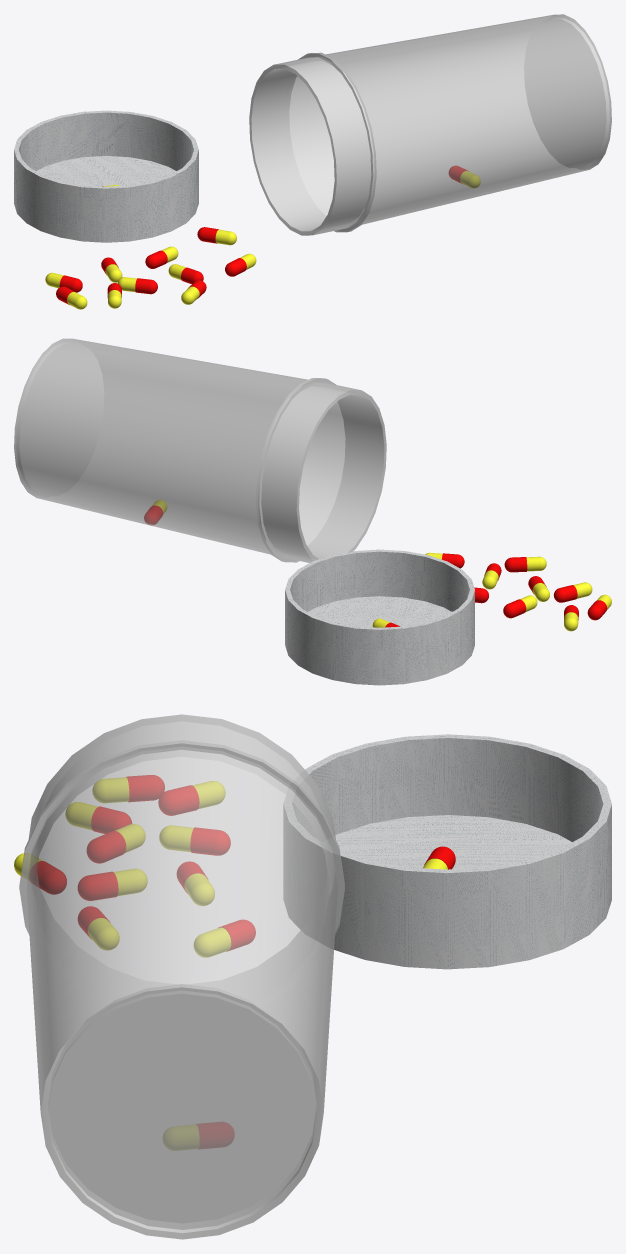
Rendered from remedio_derramado.dae.
3 views of the same model, one above another, from view 1: azimuth 30°, elevation 25°; view 2: azimuth 150°, elevation 25°; view 3: azimuth 270°, elevation 25° (orthographic). The views are drawn at different scales.
Visible parts, largest first — view 1: 组件_1 (×5), 组件_2 (×2); view 2: 组件_1 (×5), 组件_2 (×2); view 3: 组件_1 (×5), 组件_2 (×2), group_0 (×8), group_1 (×7).
Part boxes in pixels (bbox=[...]): 组件_1 (×5): bbox=[249, 14, 611, 235]; 组件_2 (×2): bbox=[14, 110, 198, 242]; 组件_1 (×5): bbox=[14, 338, 386, 562]; 组件_2 (×2): bbox=[285, 549, 474, 685]; 组件_1 (×5): bbox=[19, 714, 344, 1239]; 组件_2 (×2): bbox=[283, 734, 611, 969]; group_0 (×8): bbox=[29, 775, 233, 1148]; group_1 (×7): bbox=[88, 777, 230, 1150].
Bounding box in the file's own units: 6.01 × 3.33 × 1.83.
